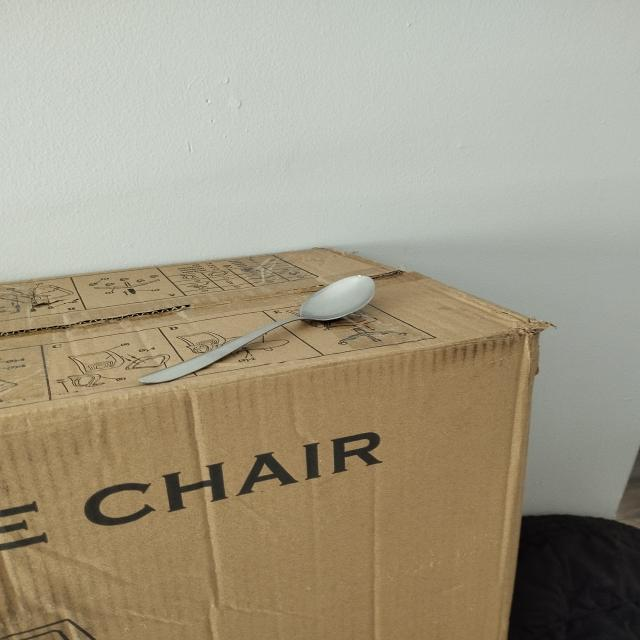Spoon: (131, 266, 390, 388)
